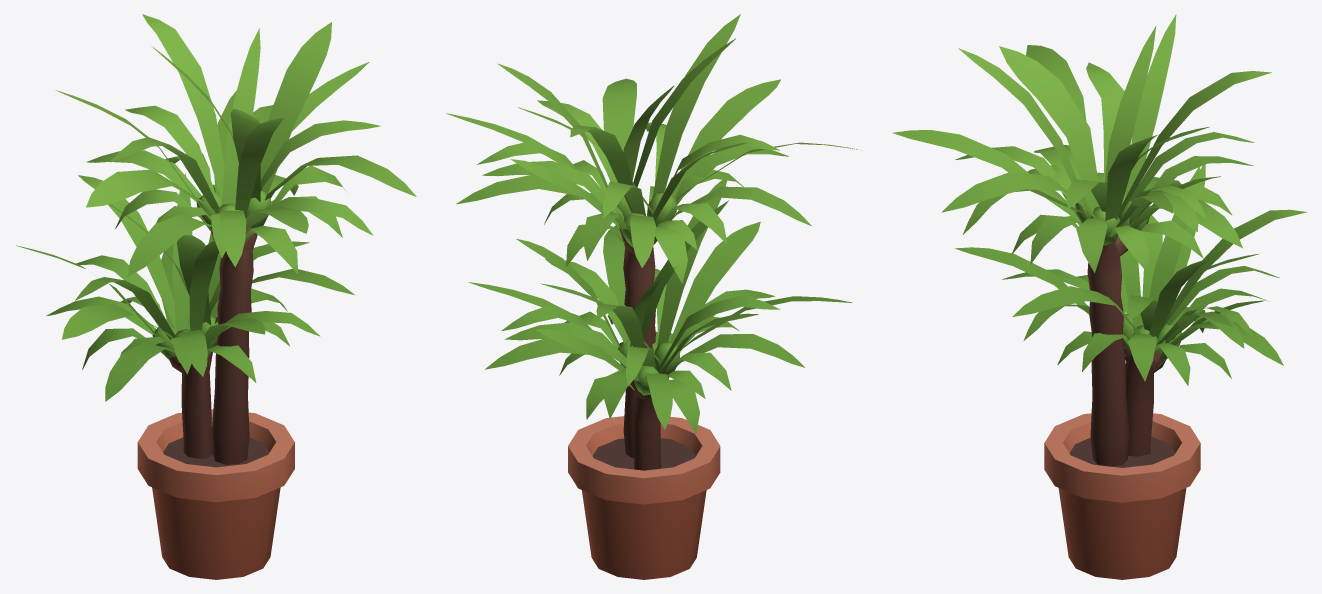
File: Flower_03.glb
The picture shows the model from 3 angles, left to right: view 1: azimuth 30°, elevation 25°; view 2: azimuth 150°, elevation 25°; view 3: azimuth 270°, elevation 25°; orthographic projection. The views are drawn at different scales.
Visible parts, largest first — view 1: Flower_03; view 2: Flower_03; view 3: Flower_03.
Boxes of the visible parts, bbox=[...] form: Flower_03: bbox=[16, 14, 416, 579]; Flower_03: bbox=[446, 14, 862, 579]; Flower_03: bbox=[892, 14, 1306, 579].
Bounding box in the file's own units: 1.76 × 2.36 × 1.74.
1 material, 1 textured.
